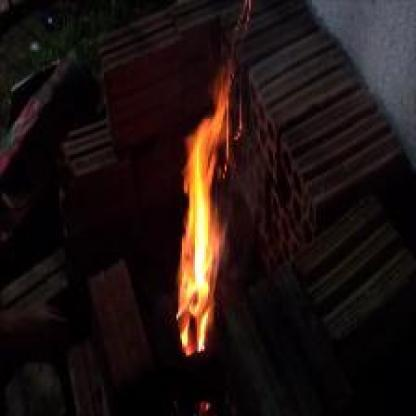fire: (161, 89, 241, 360)
